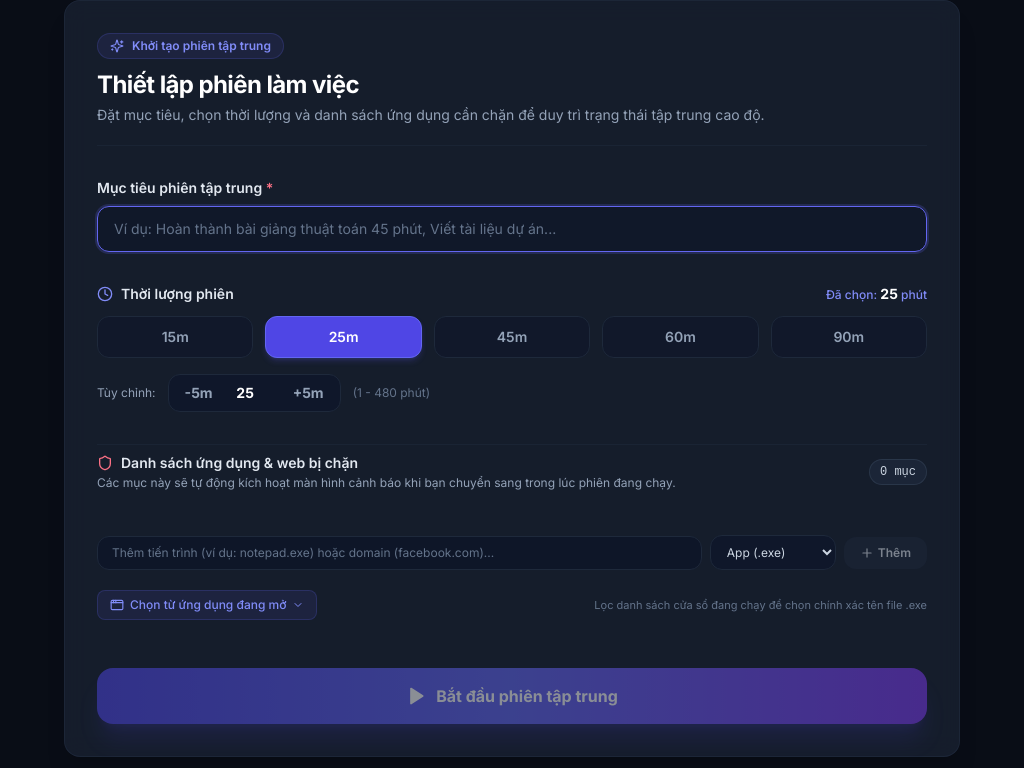
Test case: SessionSetup Component › updates duration when clicking a preset chip
Click the button "60m". click: (680, 337)
box: [602,316,759,358]
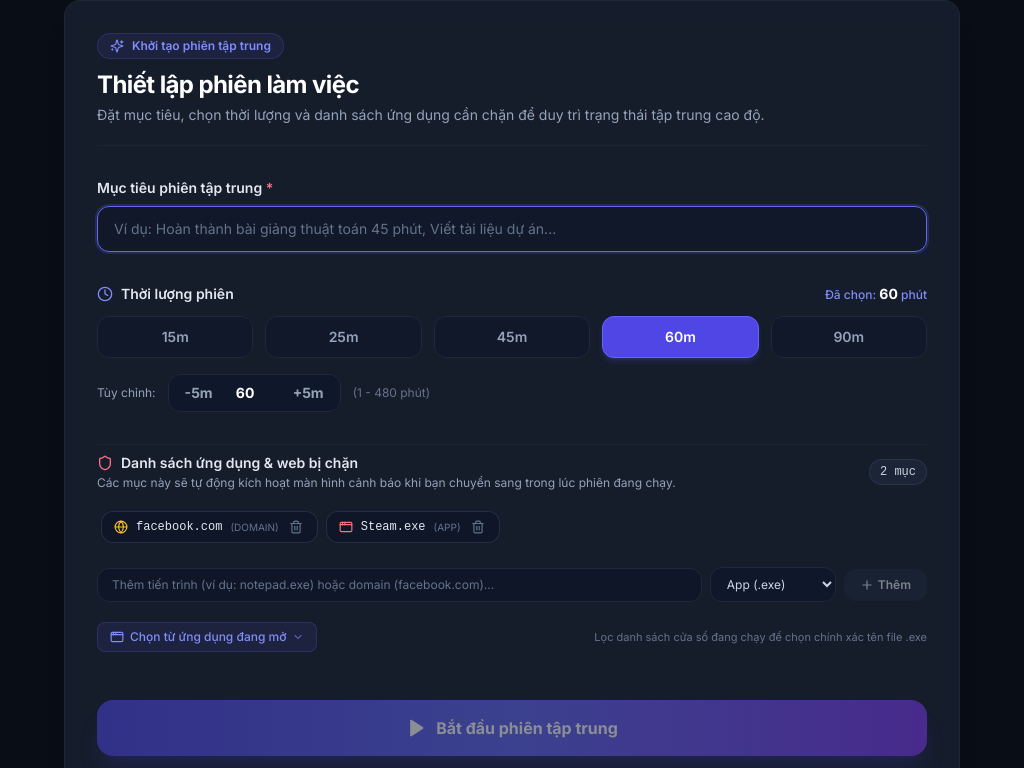
Result: the text "Đã chọn: 60 phút" is shown at [825,284,927,304]
